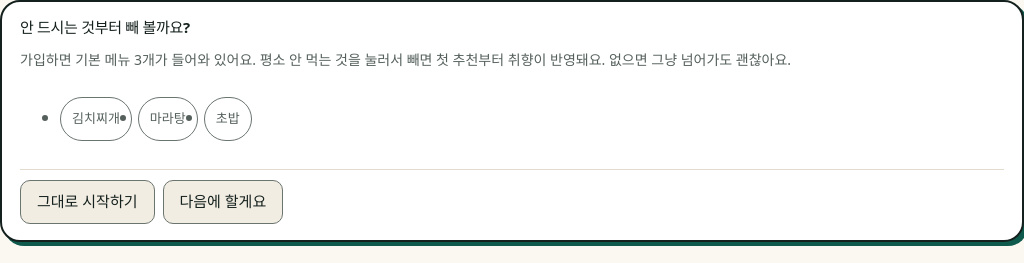
Test: 첫 사용자 안내 › 고른 메뉴만 한 번에 제외로 저장한다
The width and height of the screenshot is (1024, 263).
Click the button "마라탕" at (168, 119), box [138,97,198,141]
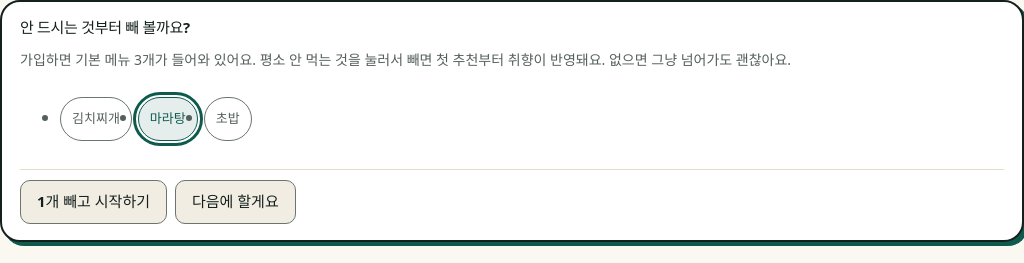
Click the button "초밥" at (228, 119), box [204,97,252,141]
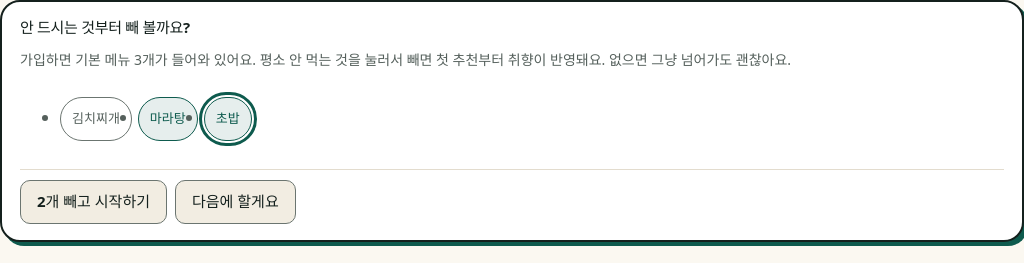
Click the button "2개 빼고 시작하기" at (94, 202), box [20,180,167,224]
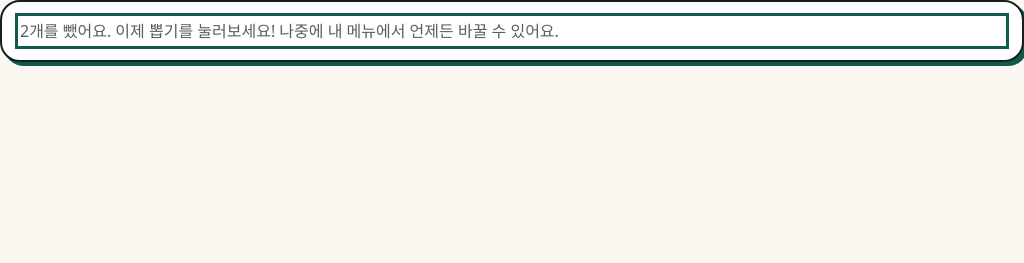
Expected: the message shows "2개를 뺐어요", [20,20,275,42]
